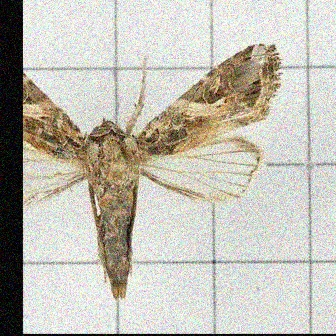Spodoptera litura: (23, 43, 282, 299)
